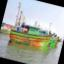fishing boat: (4, 0, 61, 49)
